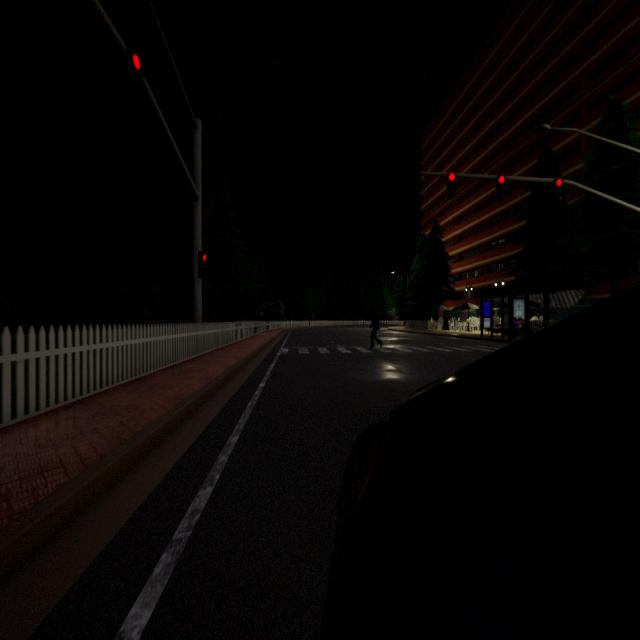Pedestrian: (370, 311, 382, 348)
Vehicle: (322, 288, 640, 640)
traffic_light: (496, 174, 506, 202), (554, 177, 564, 204), (448, 173, 457, 201), (132, 52, 142, 73), (200, 253, 208, 277)
